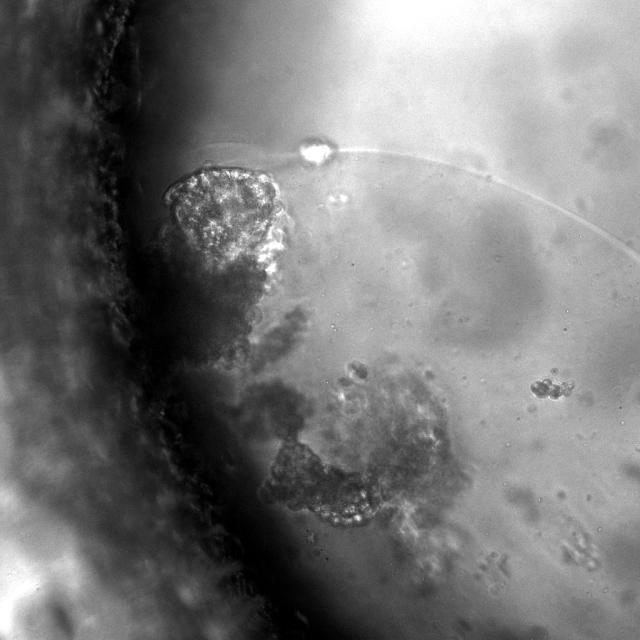organoid: (228, 361, 470, 575), (134, 164, 303, 379), (530, 378, 573, 400)
